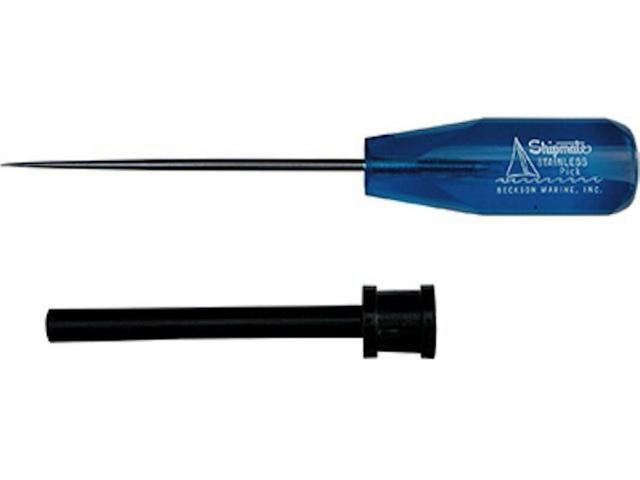ice pick: (1, 118, 640, 216)
